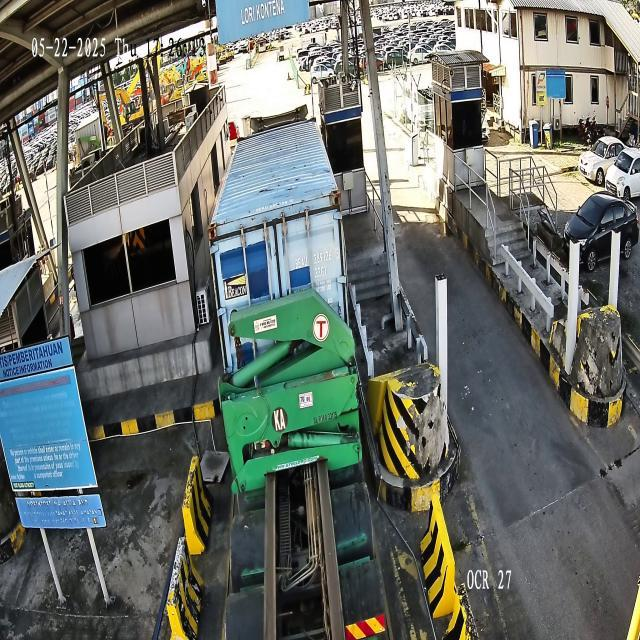ISO: (315, 265, 327, 278)
container_number: (294, 246, 340, 269)
